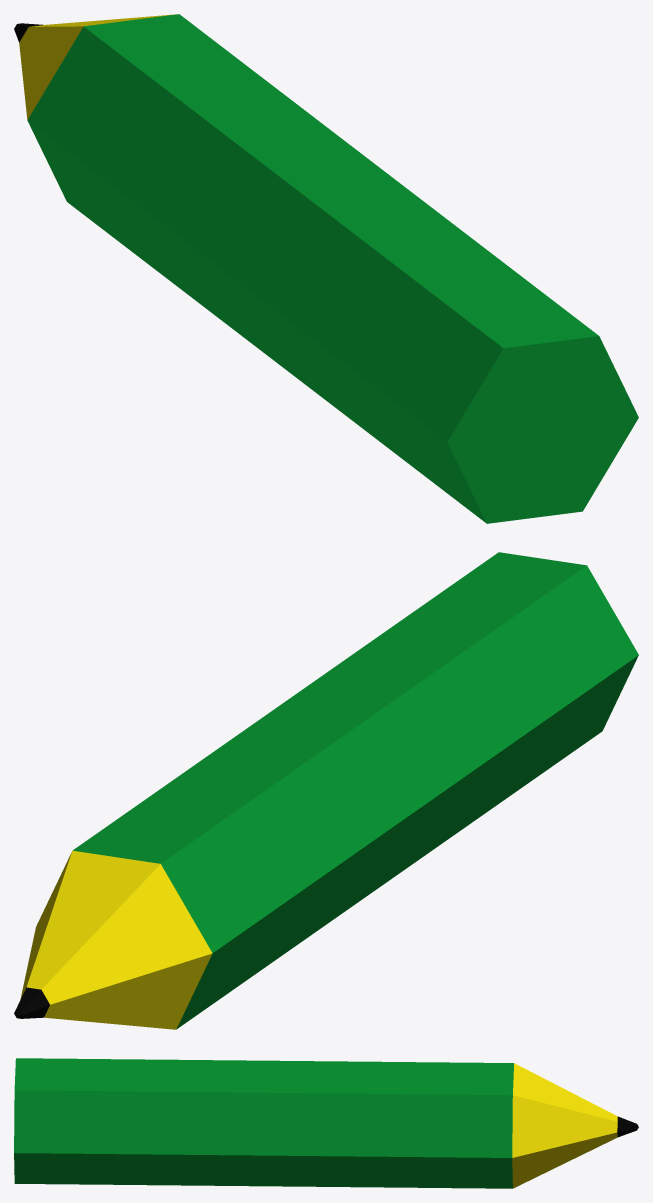
The model's file is Pen.fbx.
The picture shows the model from 3 angles, top to bottom: view 1: azimuth 30°, elevation 25°; view 2: azimuth 150°, elevation 25°; view 3: azimuth 270°, elevation 25°; orthographic projection. The views are drawn at different scales.
Parts seen in each view (by area): view 1: Pen; view 2: Pen; view 3: Pen.
Part boxes in pixels (box(x1,y1,x2,y2)): Pen: box(14, 14, 638, 523); Pen: box(14, 552, 638, 1029); Pen: box(14, 1058, 638, 1188).
Size of the model in its own units: 2.95 by 2.51 by 13.6.
